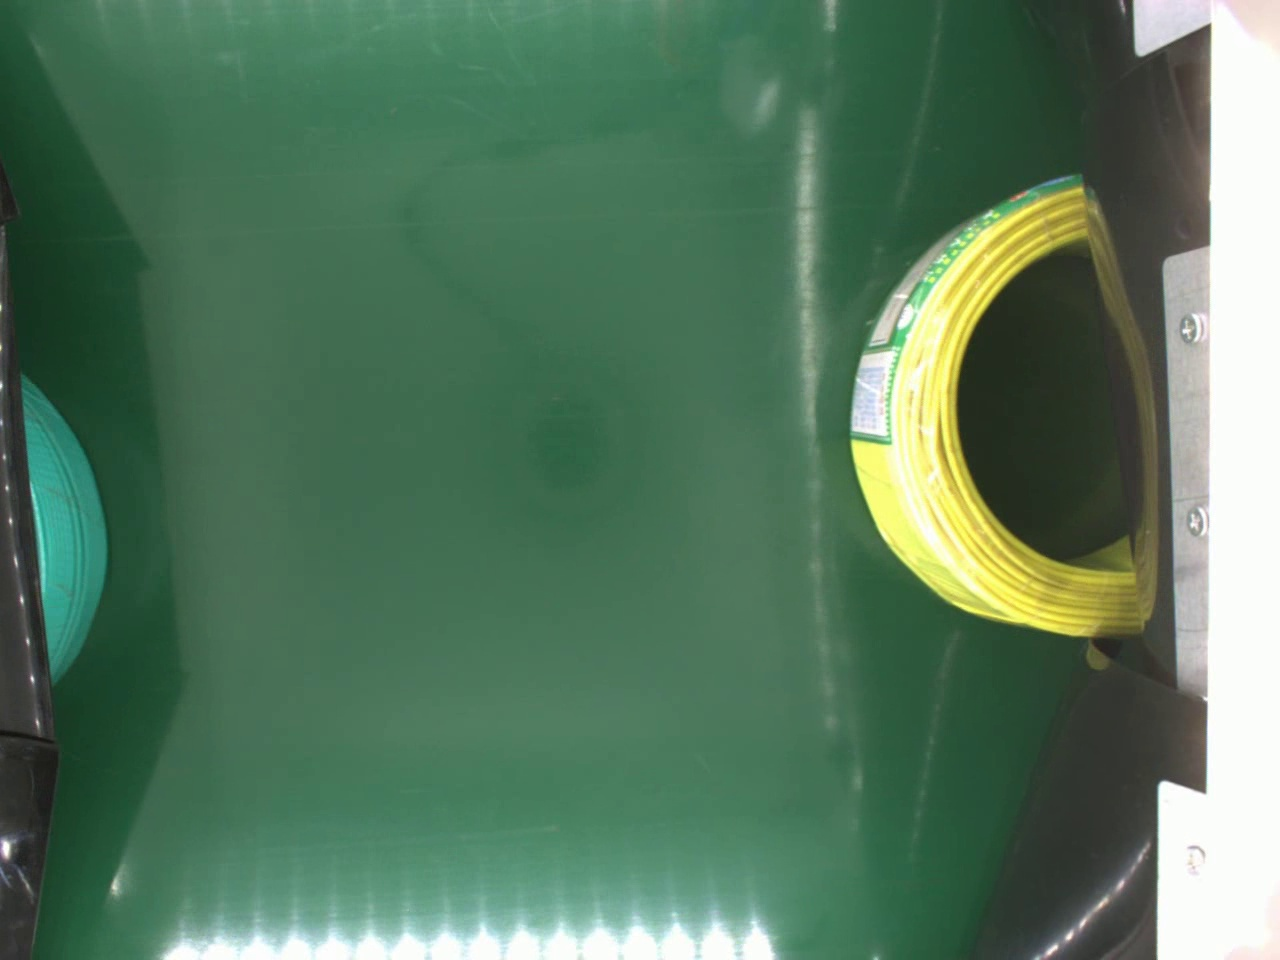yellow: (844, 170, 1144, 642)
